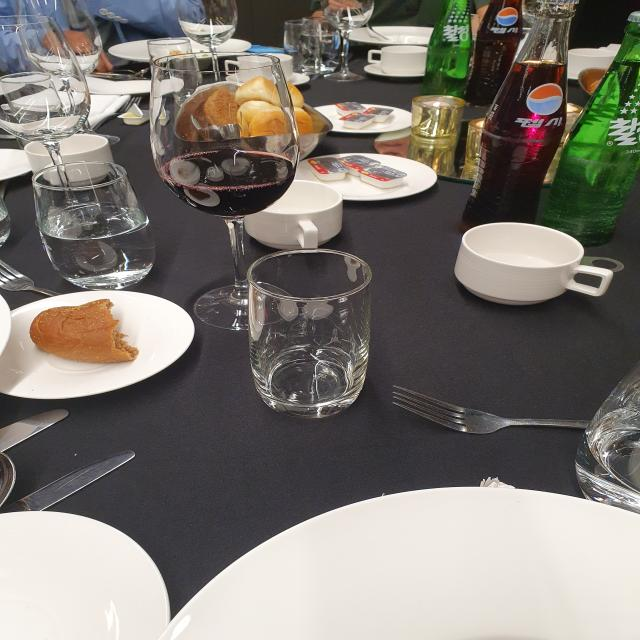Cup: (150, 60, 298, 339), (0, 15, 111, 241), (246, 248, 373, 419), (31, 161, 156, 290), (453, 221, 614, 306), (279, 20, 366, 81), (367, 45, 428, 75)
Plate: (159, 485, 640, 640), (0, 510, 171, 640), (0, 289, 195, 399), (293, 152, 438, 201), (108, 38, 252, 62), (312, 102, 412, 134), (347, 26, 435, 46), (0, 142, 39, 186), (364, 63, 426, 78)
